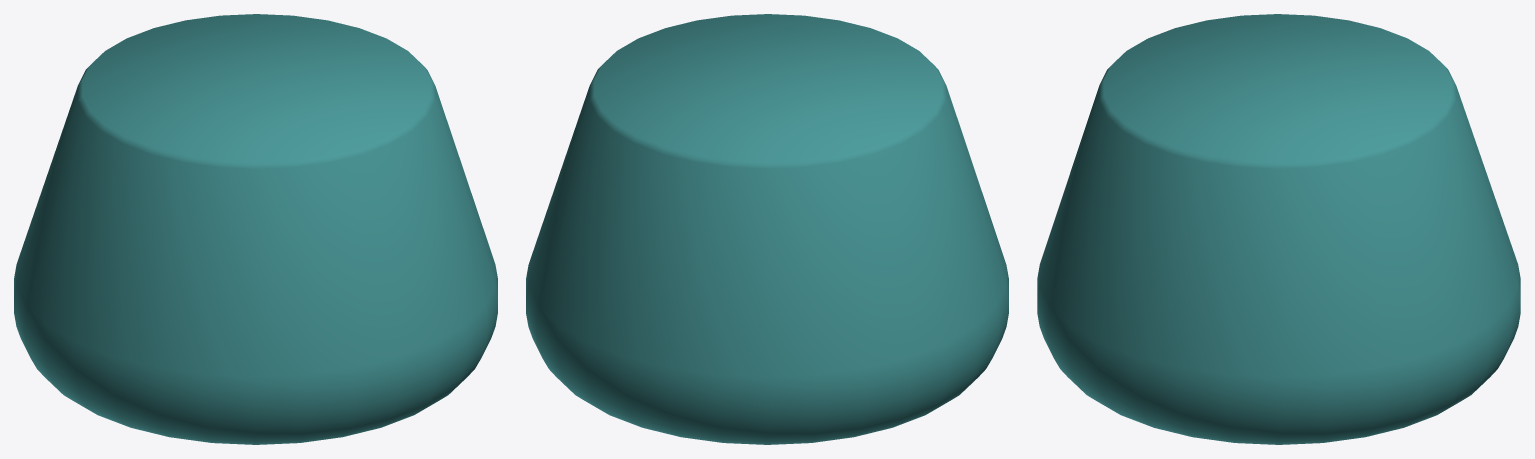
File: SM_大号锥形瓶液体_002.fbx
3 views of the same model, side by side, from view 1: azimuth 30°, elevation 25°; view 2: azimuth 150°, elevation 25°; view 3: azimuth 270°, elevation 25° (orthographic).
Parts seen in each view (by area): view 1: SM_大号锥形瓶液体_002; view 2: SM_大号锥形瓶液体_002; view 3: SM_大号锥形瓶液体_002.
Part boxes in pixels (x1,y1,x2,y2): SM_大号锥形瓶液体_002: [14, 14, 497, 444]; SM_大号锥形瓶液体_002: [526, 14, 1008, 444]; SM_大号锥形瓶液体_002: [1037, 14, 1520, 444].
Bounding box in the file's own units: 0.2159 × 0.1339 × 0.2147.
